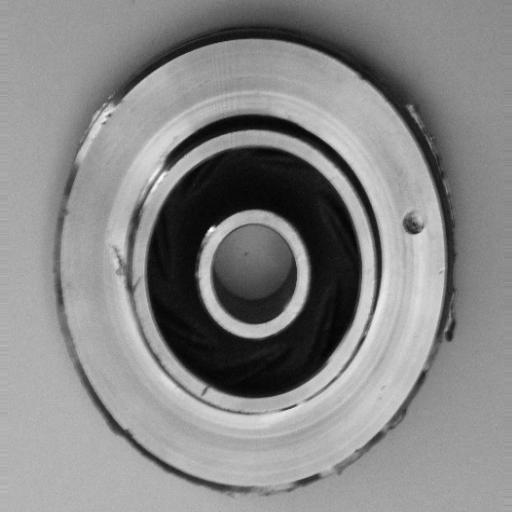casting_with_burr: (54, 25, 463, 508)
crack: (108, 239, 150, 306)
pit: (397, 204, 430, 247)
